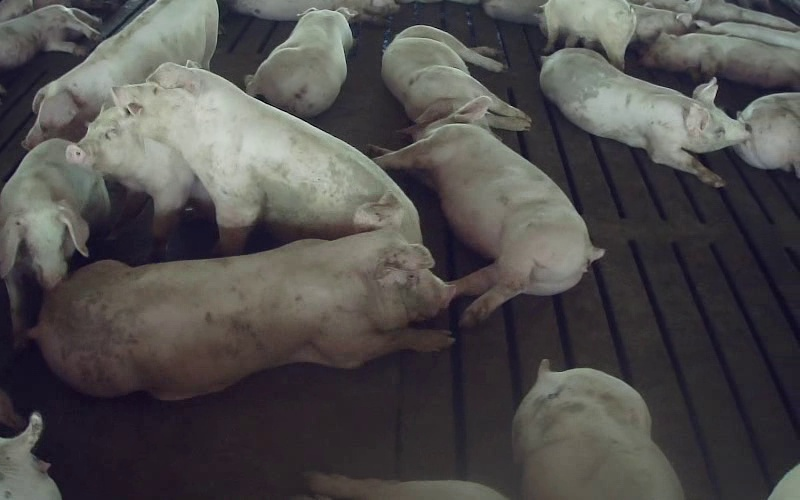pig: (32, 193, 452, 399), (113, 63, 420, 254), (375, 97, 604, 325), (540, 49, 748, 187), (513, 361, 683, 499), (0, 139, 109, 346), (67, 107, 210, 254), (382, 25, 529, 130), (246, 7, 354, 117), (641, 33, 799, 87), (543, 0, 635, 69), (734, 93, 799, 177)
